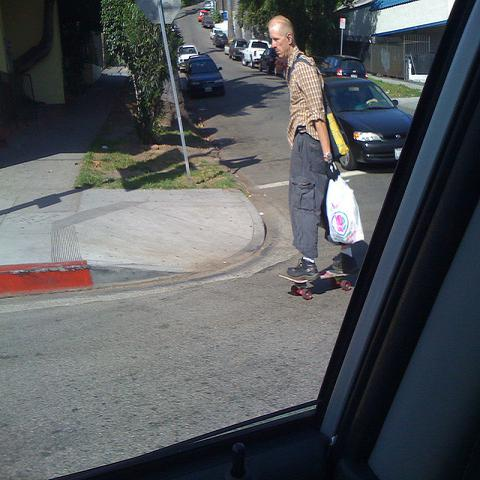car: (74, 2, 480, 473), (325, 75, 412, 170), (187, 56, 224, 97), (318, 55, 367, 77), (176, 41, 200, 72), (258, 48, 278, 74), (273, 57, 287, 78), (212, 33, 228, 48), (210, 28, 223, 40)
truck: (242, 40, 270, 68), (228, 39, 249, 60)
